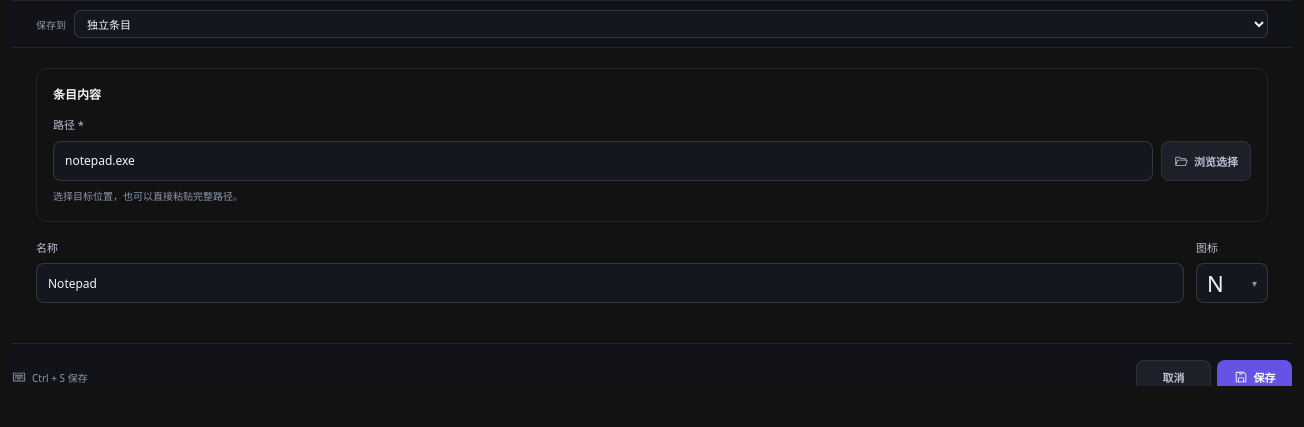
ItemForm validation › a path › that is changed to something wrong is refused even on an old entry
The image size is (1304, 427).
Replace the text in the field with test id "item-path-input" with "tools\\run.exe" at point(603, 160), box [53,140,1153,180]
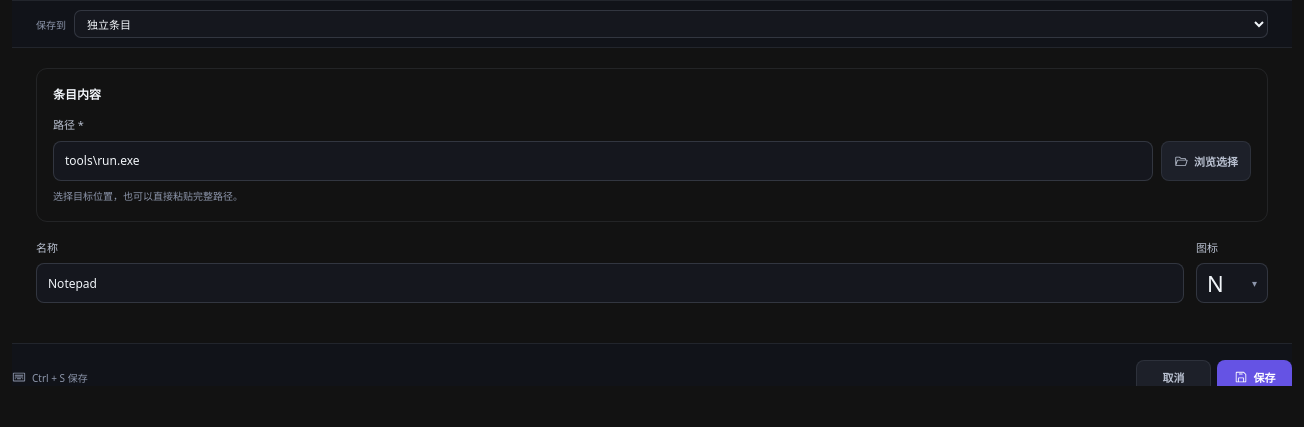
Click the button with test id "item-save" at point(1254, 377), box [1217,360,1292,394]
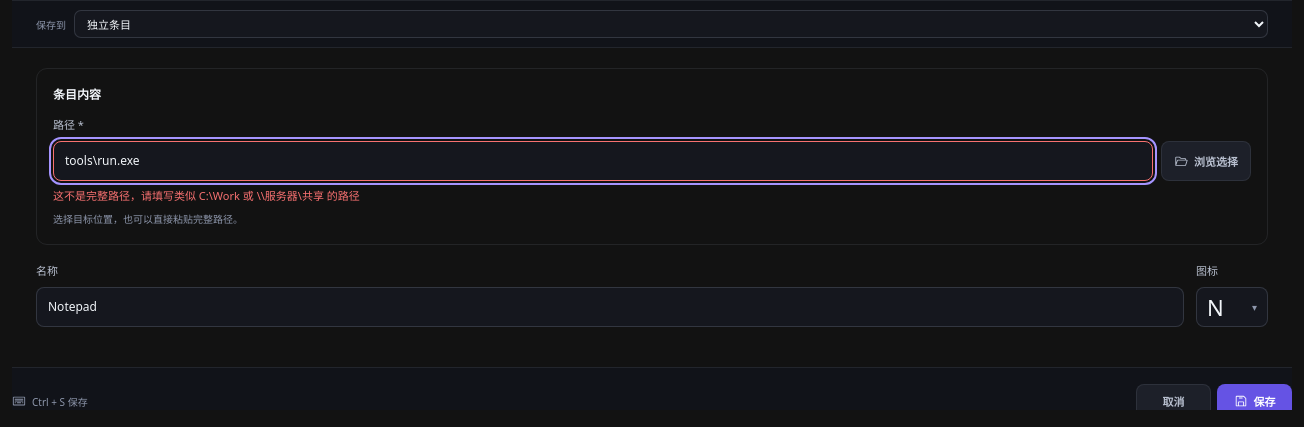
Check: the message shows "完整路径", box [53,188,360,202]
